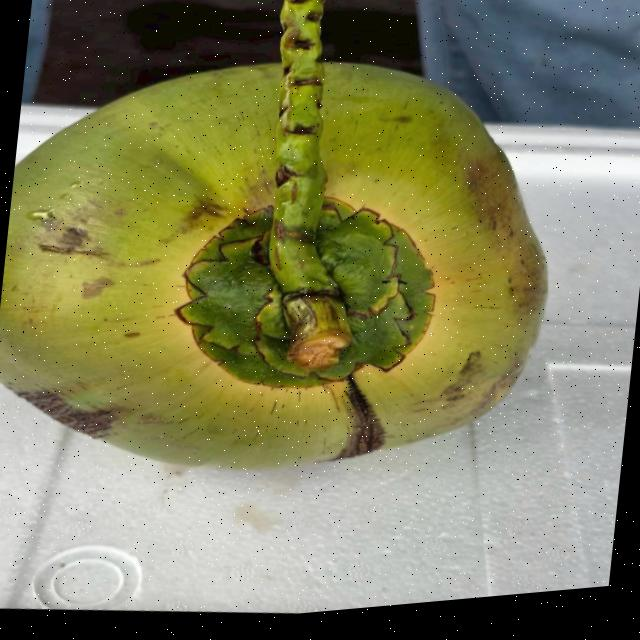coco_1.5: (102, 125, 534, 482)
